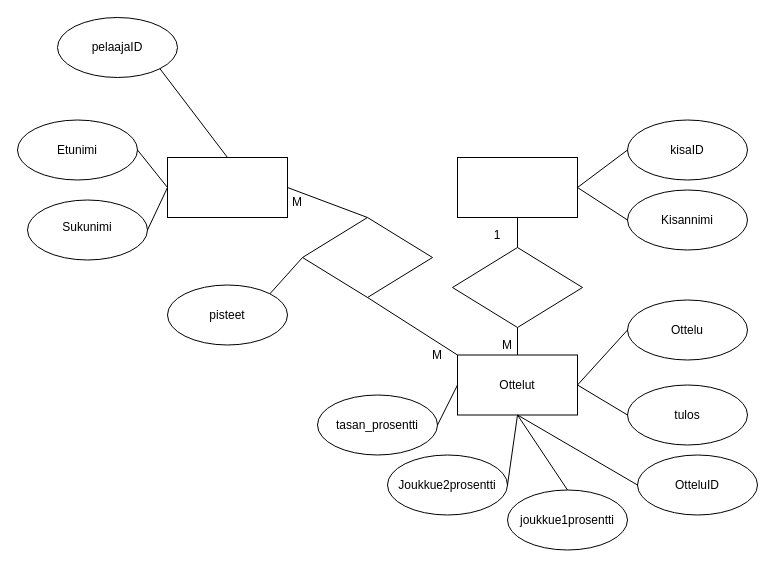
Some shapes in this 775 by 568 pixel diagram are drawn without their labels. Here are the shapes that lost their labels. From the top down, the centre of each, then its label:
[227,187]: Pelaajat
[517,187]: Kisat
[367,257]: Veikkaus
[517,287]: Kuuluu
